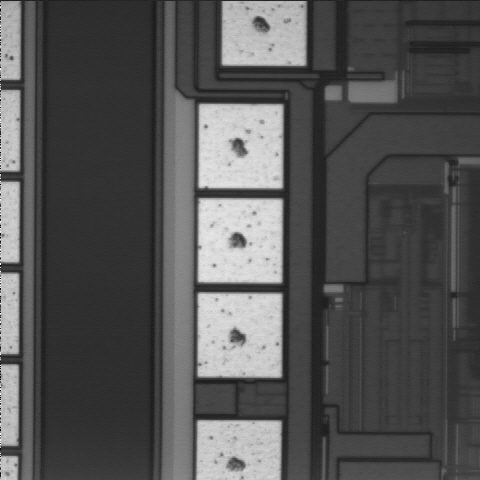pad: (199, 104, 283, 188), (198, 199, 282, 283), (198, 293, 281, 377)
